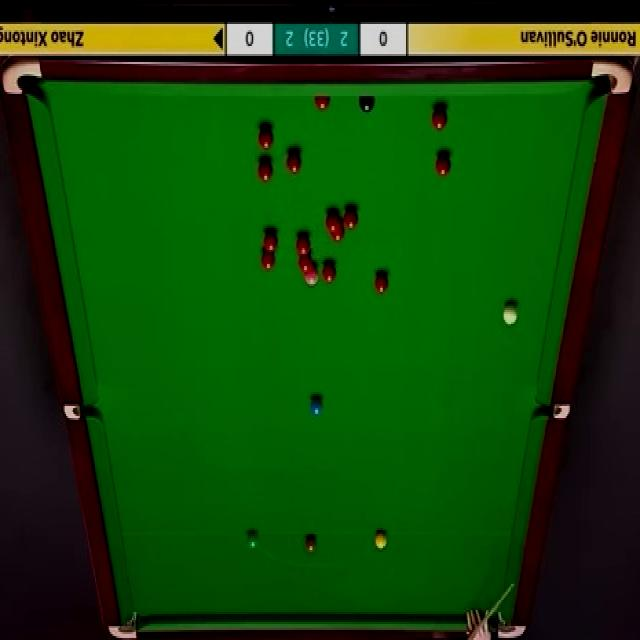black-ball: (359, 93, 375, 116)
blue-ball: (310, 396, 322, 415)
brown-ball: (305, 532, 317, 551)
green-ball: (245, 530, 260, 550)
pink-ball: (304, 266, 320, 288)
red-ball: (257, 124, 275, 152), (256, 157, 274, 183), (286, 148, 303, 174), (435, 153, 452, 178), (374, 270, 390, 296), (432, 107, 448, 132), (295, 232, 311, 256), (322, 261, 337, 285), (263, 229, 278, 253), (343, 208, 359, 230), (326, 211, 340, 235), (261, 250, 276, 272), (298, 254, 313, 272), (315, 96, 331, 111), (331, 225, 344, 243)
white-ball: (501, 298, 521, 327)
yellow-ball: (375, 530, 388, 552)
